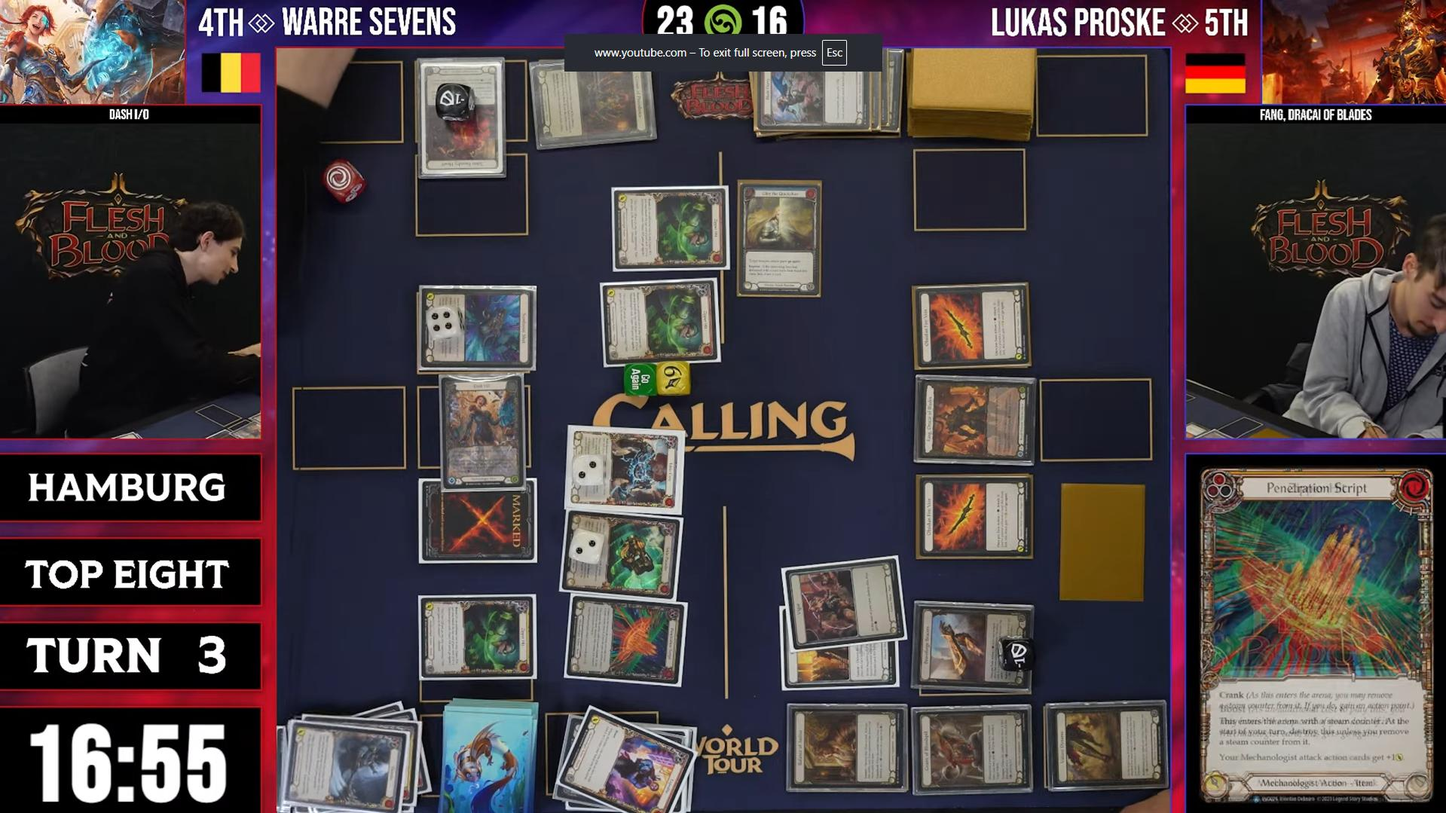Card: (1191, 463, 1446, 809), (556, 706, 696, 813), (280, 721, 420, 812), (560, 594, 685, 686), (784, 556, 906, 650), (531, 57, 652, 149), (560, 510, 682, 599), (916, 602, 1035, 691), (600, 280, 718, 368), (1046, 704, 1168, 789), (915, 281, 1029, 370), (913, 708, 1032, 793), (565, 423, 683, 506), (611, 185, 725, 269), (420, 61, 504, 175), (739, 182, 821, 298), (439, 373, 528, 479), (756, 71, 871, 131), (789, 640, 888, 691)
Ref: (917, 378, 1035, 462), (789, 707, 906, 790), (918, 475, 1032, 558), (420, 596, 534, 678), (420, 480, 536, 560), (421, 287, 534, 369)
